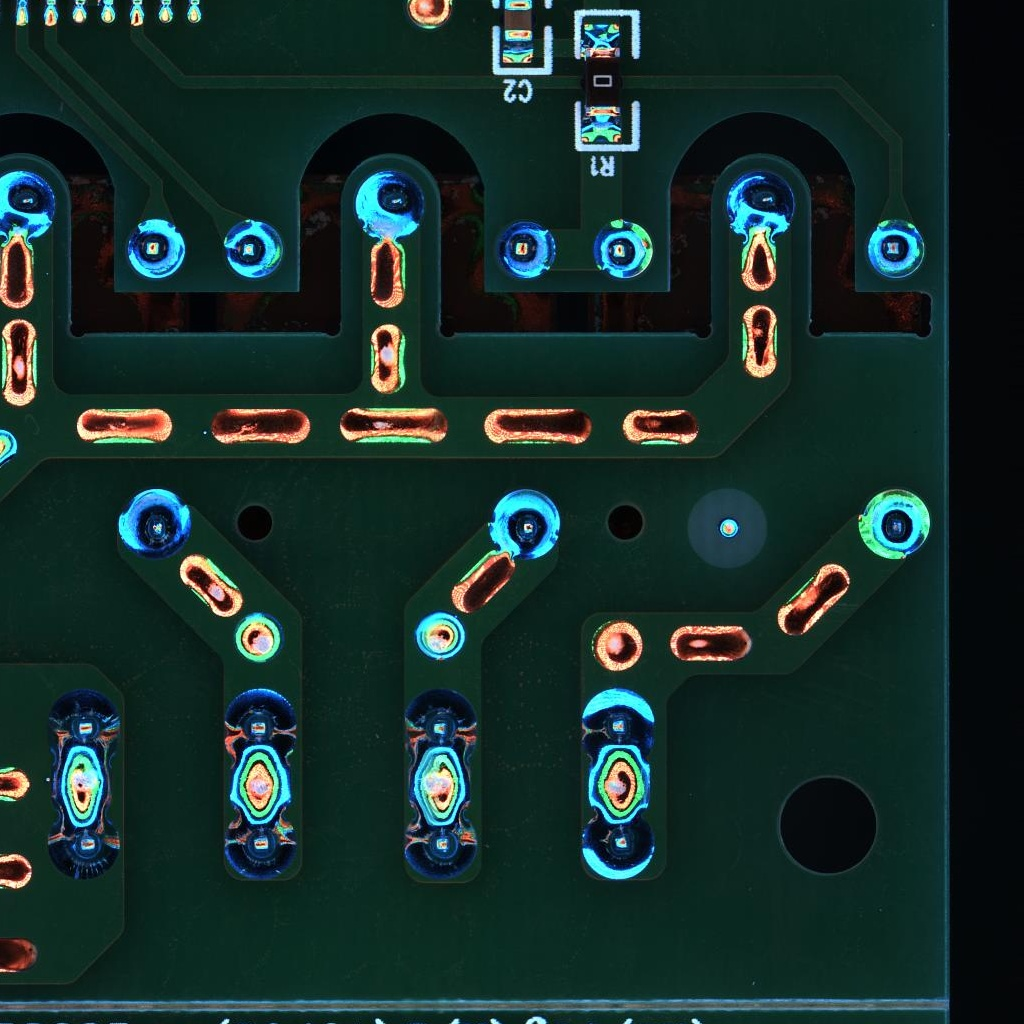spot: (575, 686, 661, 765), (219, 686, 301, 764), (114, 484, 197, 560), (574, 809, 660, 882), (853, 488, 934, 565), (484, 487, 565, 564), (220, 811, 302, 883), (42, 686, 122, 759), (43, 811, 125, 882), (402, 811, 482, 883), (352, 170, 430, 243), (402, 688, 481, 760), (723, 169, 797, 242), (1, 167, 59, 247), (219, 215, 285, 283), (123, 215, 189, 282), (591, 217, 656, 282), (494, 218, 558, 280), (865, 217, 927, 281), (230, 608, 284, 665), (413, 609, 466, 662)
